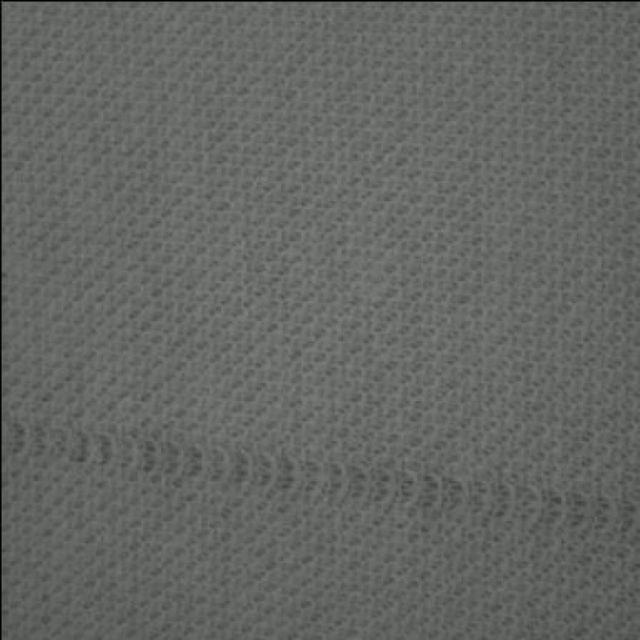Line: (6, 419, 636, 538)
